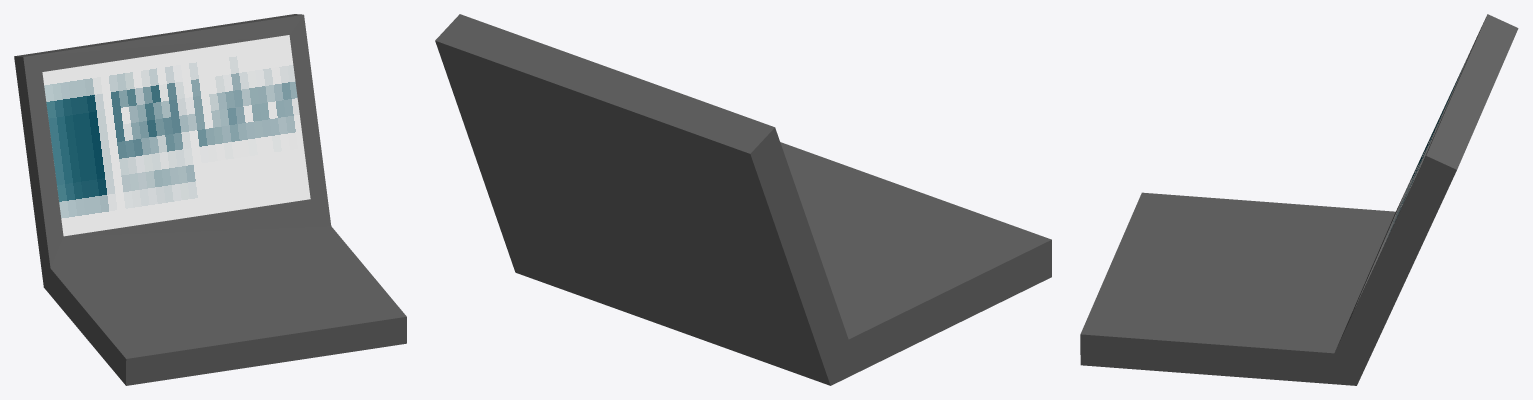
The picture shows the model from 3 angles, left to right: view 1: azimuth 30°, elevation 25°; view 2: azimuth 150°, elevation 25°; view 3: azimuth 270°, elevation 25°; orthographic projection. The views are drawn at different scales.
Parts seen in each view (by area): view 1: Laptop_Laptop, Laptop_Screen; view 2: Laptop_Laptop; view 3: Laptop_Laptop, Laptop_Screen.
Part boxes in pixels (x1,y1,x2,y2): Laptop_Laptop: (14, 14, 406, 385); Laptop_Screen: (42, 35, 310, 236); Laptop_Laptop: (435, 14, 1051, 385); Laptop_Laptop: (1080, 14, 1518, 385); Laptop_Screen: (1353, 42, 1474, 310).
Bounding box in the file's own units: 0.3086 × 0.1989 × 0.334.
3 materials, 1 textured.
